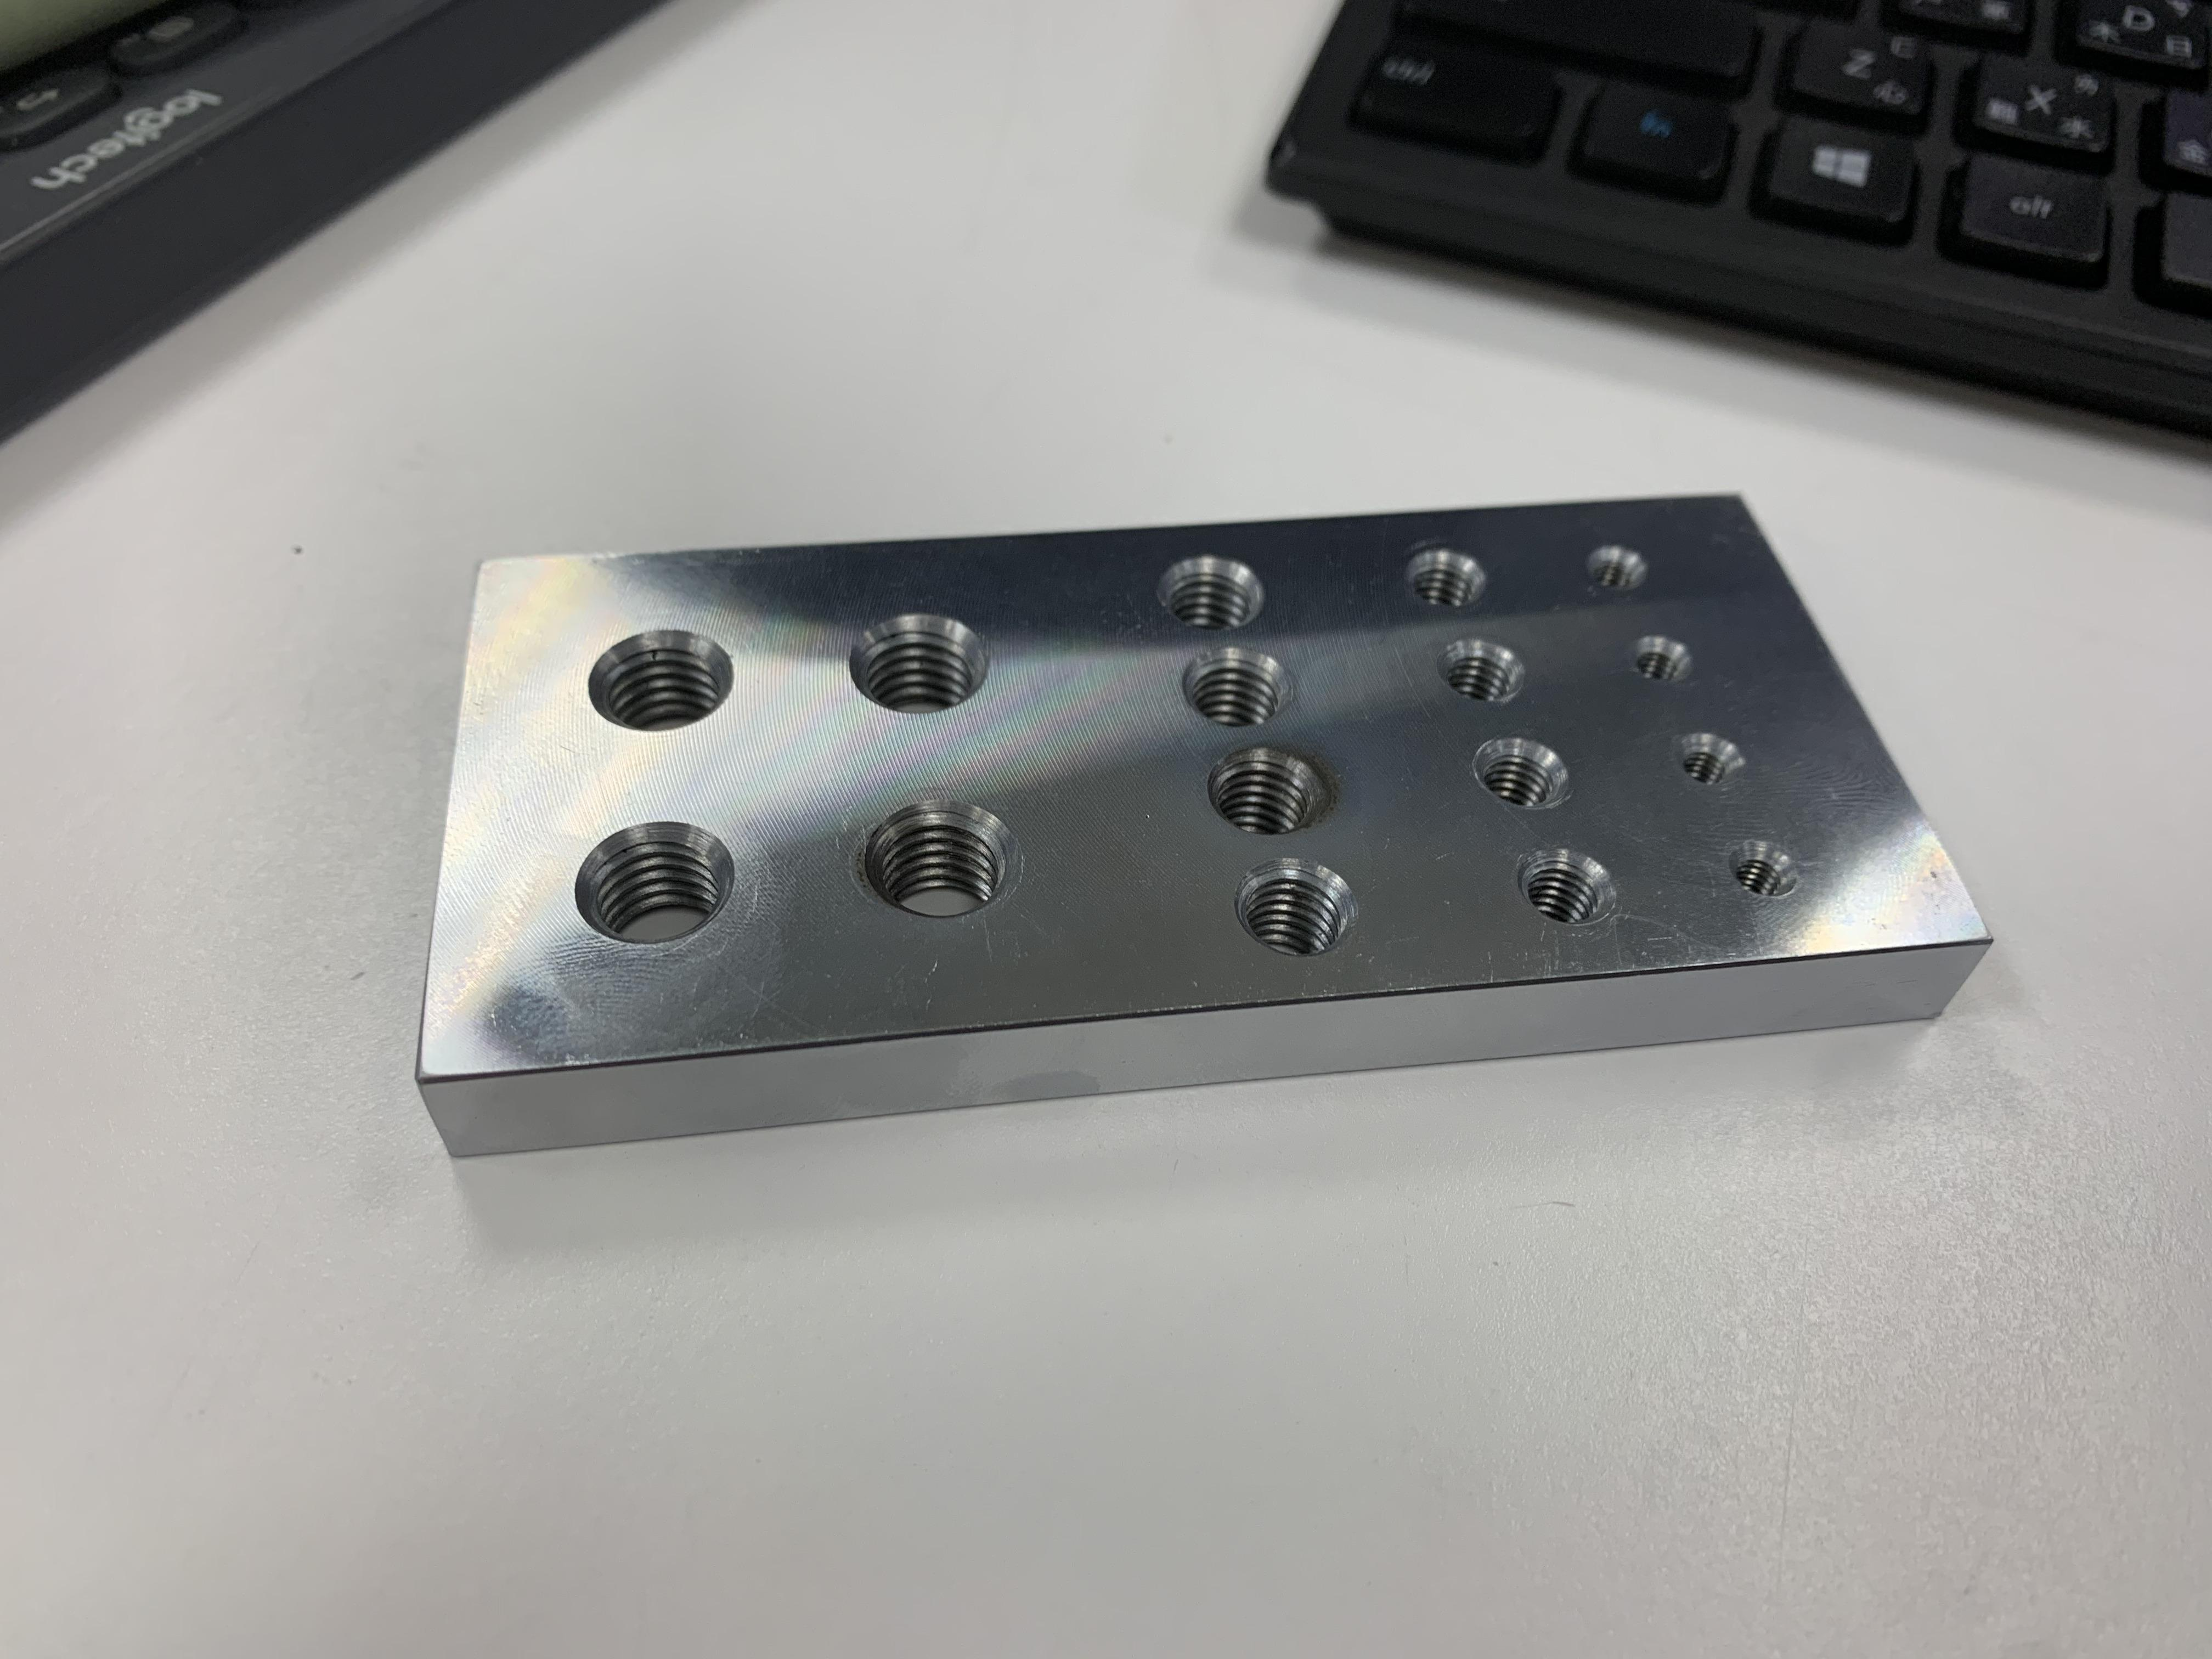hole: (836, 775, 1045, 958), (820, 573, 1017, 760), (563, 795, 759, 979), (578, 598, 737, 739), (1190, 739, 1355, 845), (1230, 852, 1379, 965), (1136, 540, 1298, 640), (1501, 831, 1644, 936), (1165, 641, 1315, 735), (1453, 728, 1595, 824), (1651, 709, 1784, 810), (1695, 836, 1836, 929), (1386, 526, 1510, 622), (1608, 606, 1724, 706), (1561, 519, 1688, 608), (1433, 622, 1545, 721)
